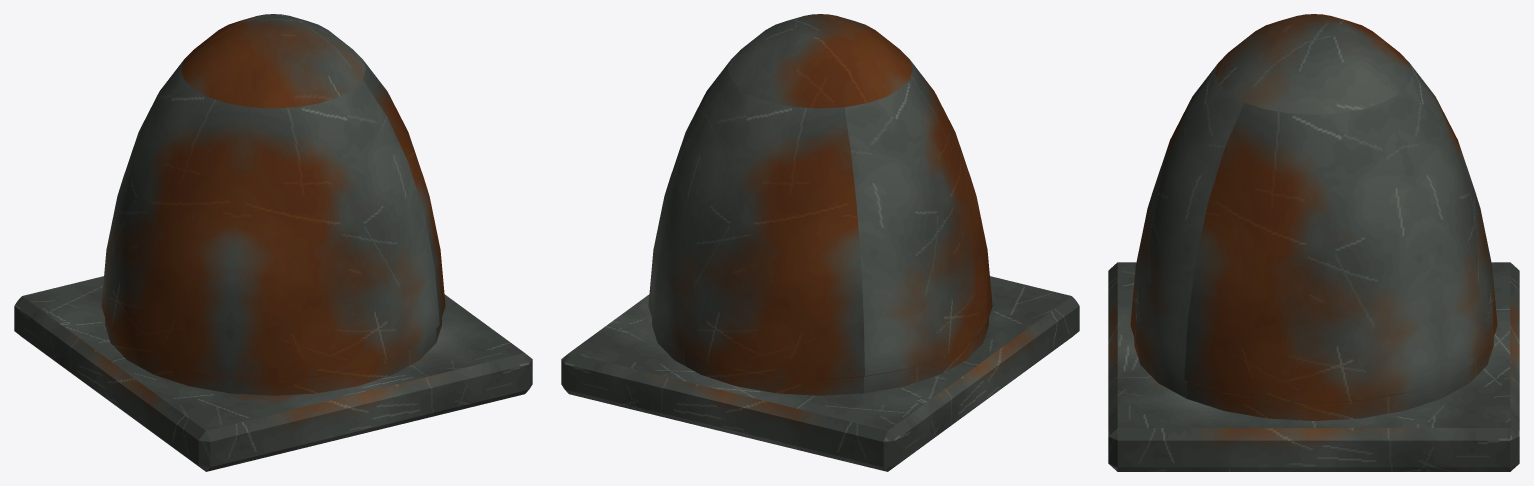
File: R4B_Dome.glb
The picture shows the model from 3 angles, left to right: view 1: azimuth 30°, elevation 25°; view 2: azimuth 150°, elevation 25°; view 3: azimuth 270°, elevation 25°; orthographic projection. The views are drawn at different scales.
Visible parts, largest first — view 1: R4B_Dome; view 2: R4B_Dome; view 3: R4B_Dome.
Boxes of the visible parts, <box> form: R4B_Dome: <box>14,14,532,471</box>; R4B_Dome: <box>561,14,1079,471</box>; R4B_Dome: <box>1108,14,1519,471</box>.
Bounding box in the file's own units: 0.51 × 0.506 × 0.51.
Materials: 4 (4 with a texture image).
